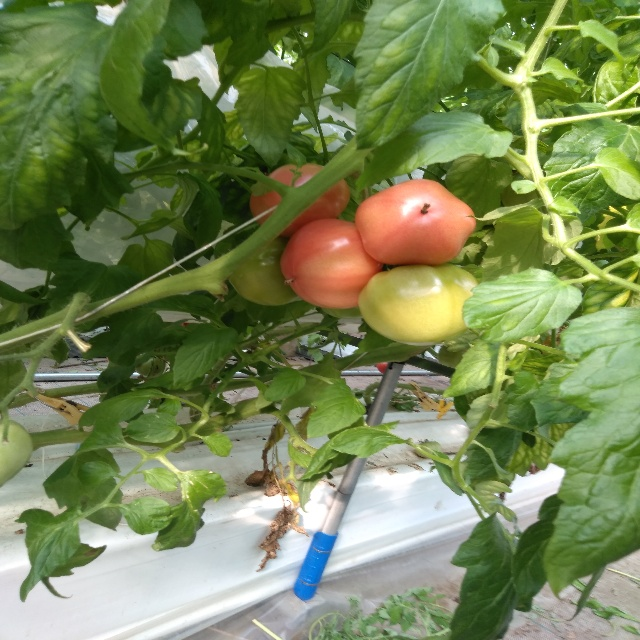b_green: (358, 264, 482, 346), (229, 235, 299, 306), (0, 419, 35, 488)
b_half_ripened: (354, 178, 476, 266), (278, 218, 385, 310), (249, 162, 351, 238)
